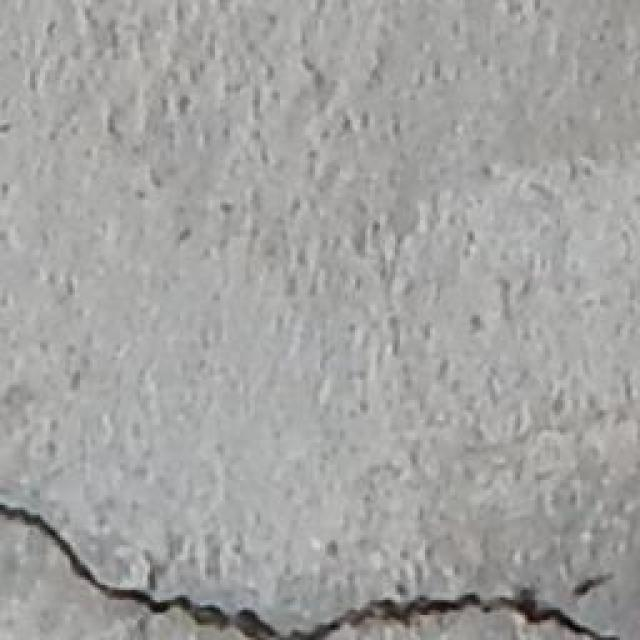concrete-crack: (0, 496, 618, 640)
